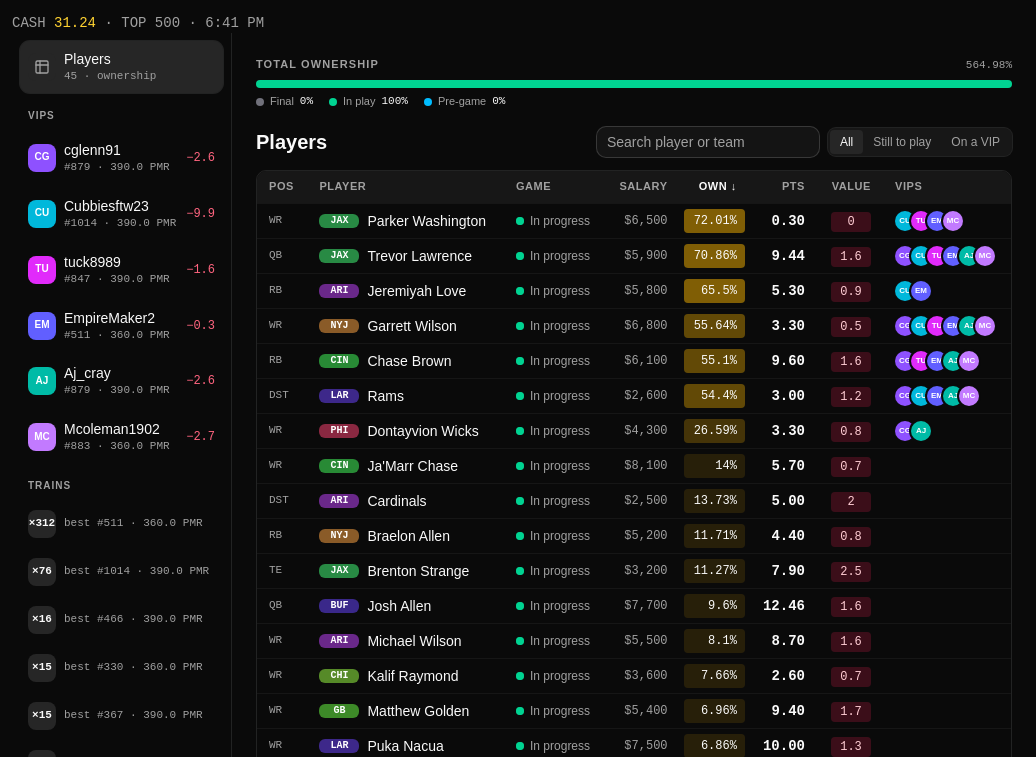
it: rail › opens a VIP from its rail row and keeps them in the URL
Click the link "CU Cubbiesftw23 #1014 · 390.0 PMR −9.9". click: [122, 213]
box: [28, 198, 215, 229]
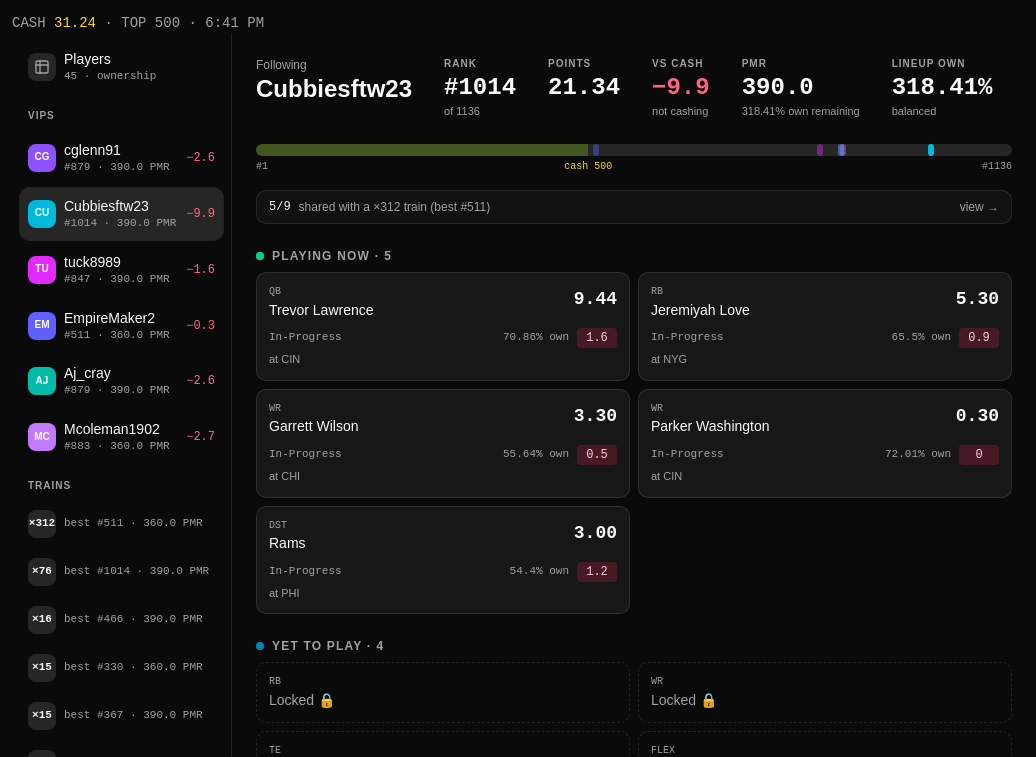
Now the heading "Cubbiesftw23" is shown, box [256, 73, 412, 105]
